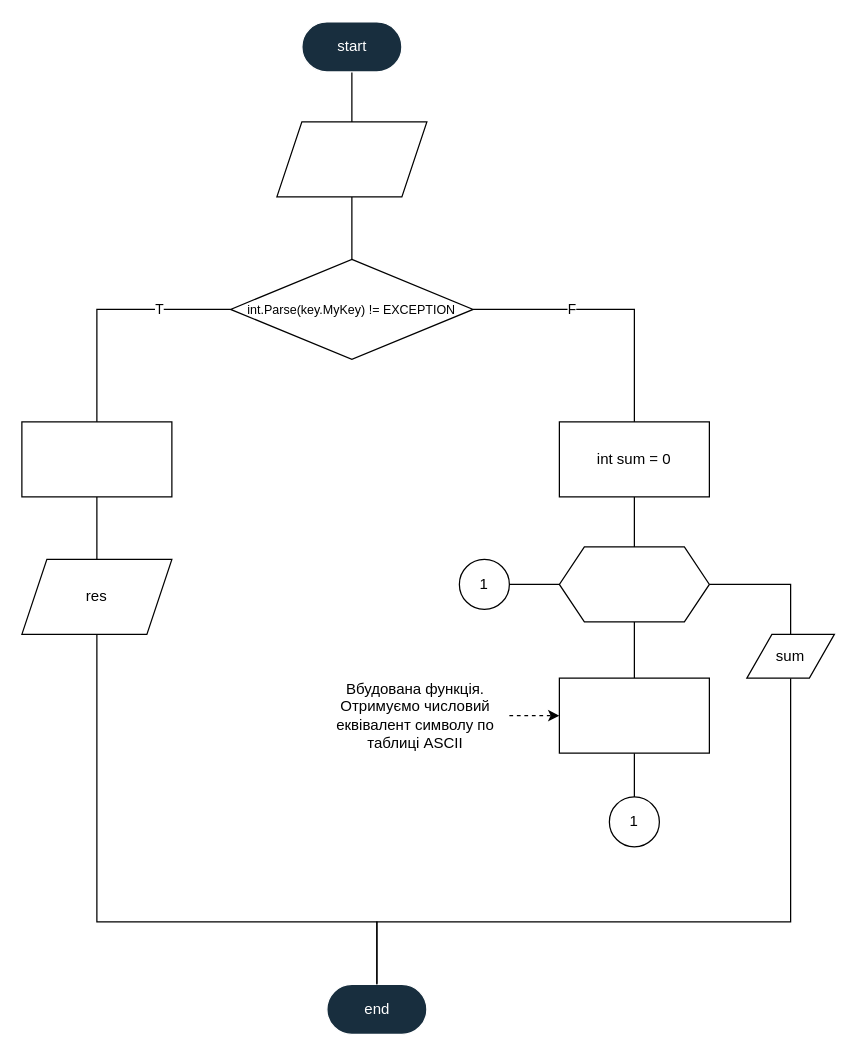
The diagram is 856 pixels wide and 1056 high, and some of its shapes have lost their labels. The shapes that lost their labels are listed below. From the top down, each one's box as (x1, y1, x2, y2) in pixels, then its label:
(276, 121, 427, 197): Key key
(21, 421, 172, 497): int res = int.Parse(key.MyKey);
(558, 546, 709, 622): int i = 0; i < key.MyKey.Length; i++
(558, 677, 709, 753): sum += (int)key.MyKey[i]
